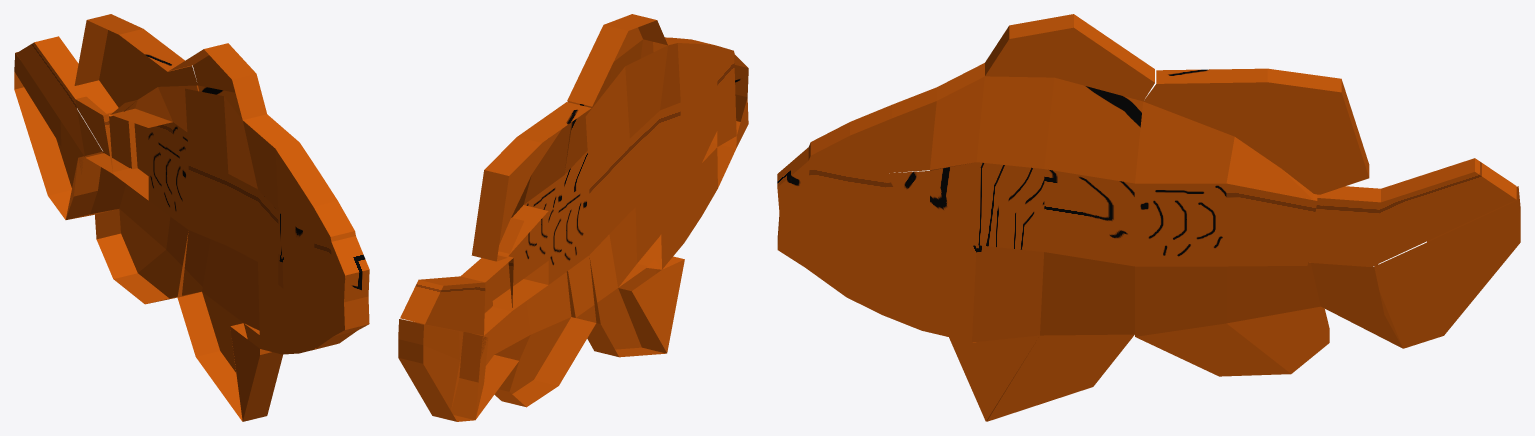
Rendered from goldfish.glb.
3 renders of one model, left to right at view 1: azimuth 30°, elevation 25°; view 2: azimuth 150°, elevation 25°; view 3: azimuth 270°, elevation 25°, orthographic. The views are drawn at different scales.
Visible parts, largest first — view 1: Plane; view 2: Plane; view 3: Plane.
Boxes of the visible parts, left/top/right/bottom form: Plane: left=14, top=14, right=369, bottom=421; Plane: left=398, top=14, right=748, bottom=421; Plane: left=777, top=14, right=1520, bottom=421.
Bounding box in the file's own units: 0.225 × 2 × 3.42.
Materials: 1 (1 with a texture image).
